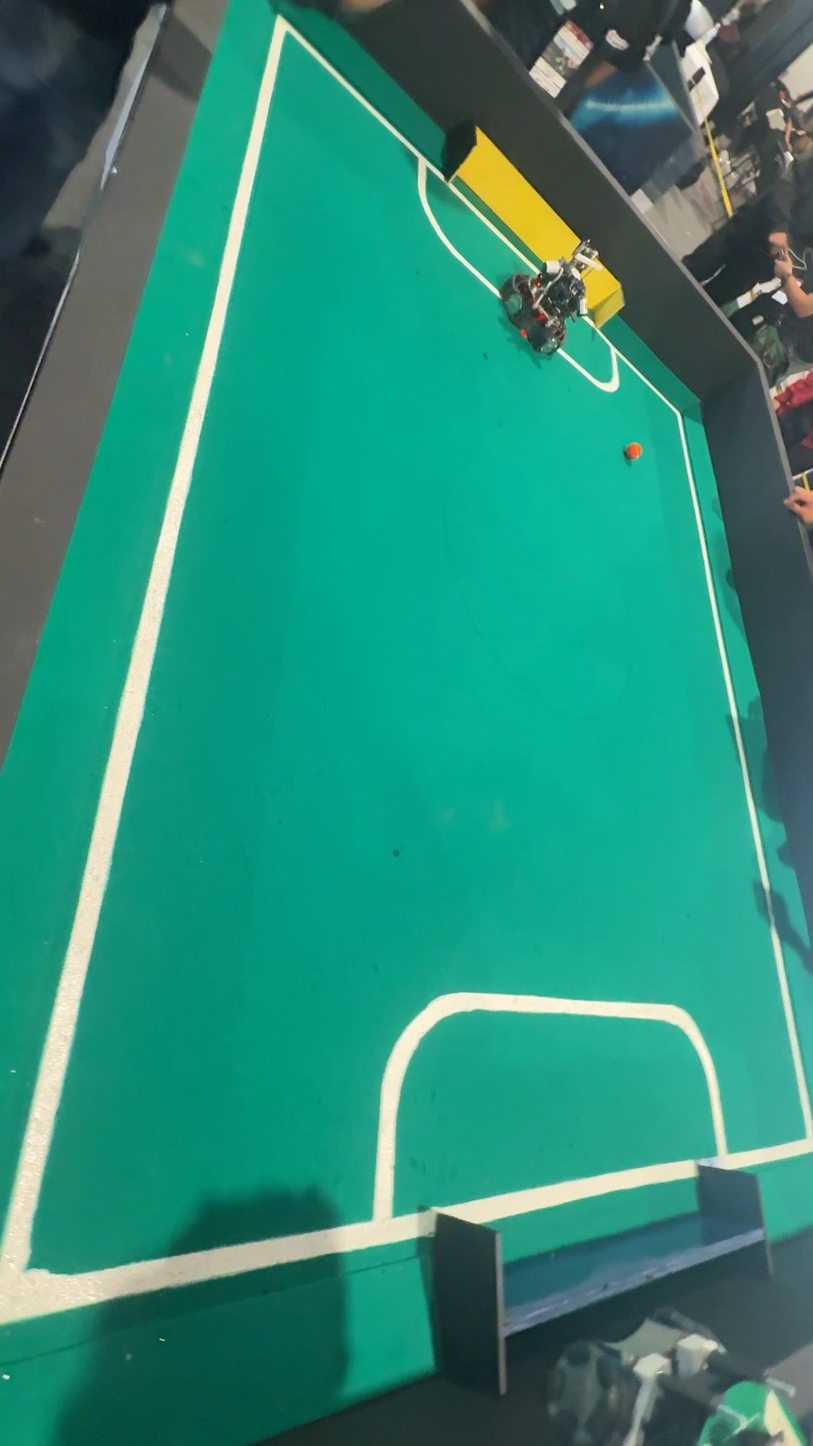Robot: (491, 236, 599, 381)
pelota: (617, 433, 650, 464)
